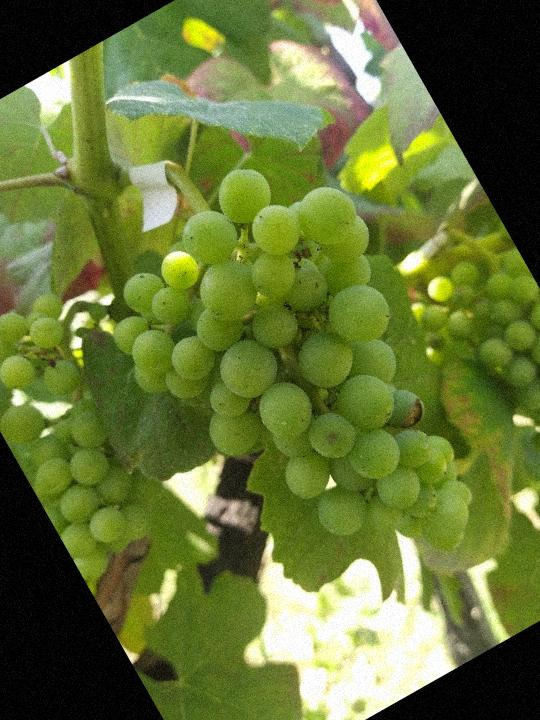grape: (65, 122, 531, 650)
